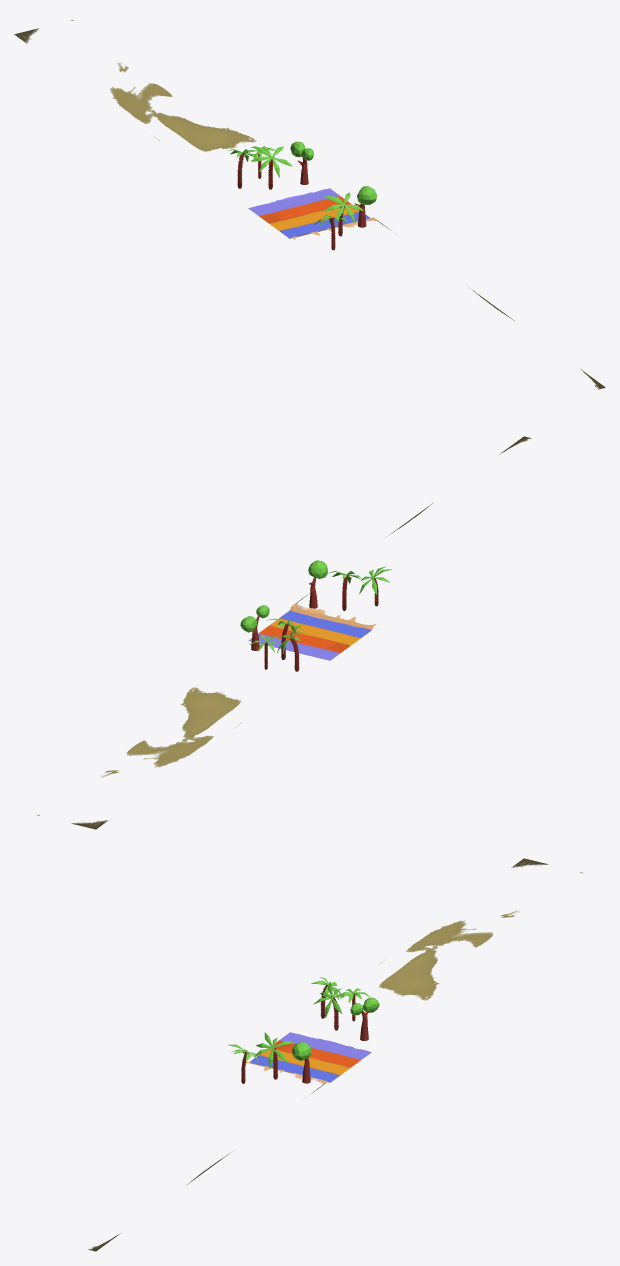
The model's file is forestPart1To2.fbx.
3 renders of one model, top to bottom at view 1: azimuth 30°, elevation 25°; view 2: azimuth 150°, elevation 25°; view 3: azimuth 330°, elevation 25°, orthographic.
Parts seen in each view (by area): view 1: forestPart1To2; view 2: forestPart1To2; view 3: forestPart1To2.
Part boxes in pixels (x1,y1,x2,y2): forestPart1To2: [14, 19, 605, 389]; forestPart1To2: [37, 436, 531, 829]; forestPart1To2: [88, 858, 582, 1251].
Bounding box in the file's own units: 1675 × 876 × 18053.
